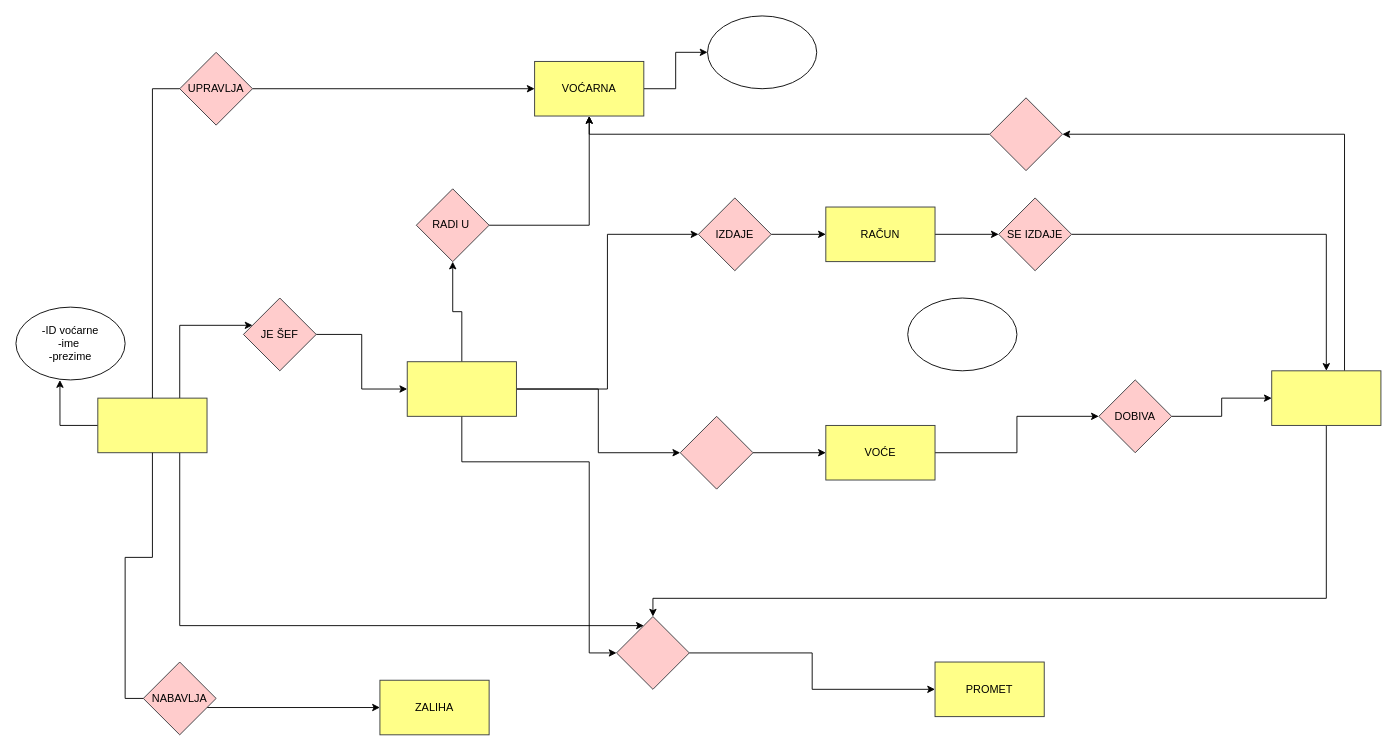
This 1397x751 diagram has some shape labels left out. Here are the shapes that lost their labels. From the top down, the centre of each, then its label:
At (762,52): "-ID voćarne -naziv -lokacija".
At (1025,134): "KUPUJE U".
At (461,388): "PRODAVAČ".
At (1326,397): "KUPAC".
At (152,425): "VODITELJ".
At (716,452): "PRODAJE".
At (652,652): "RADI".
